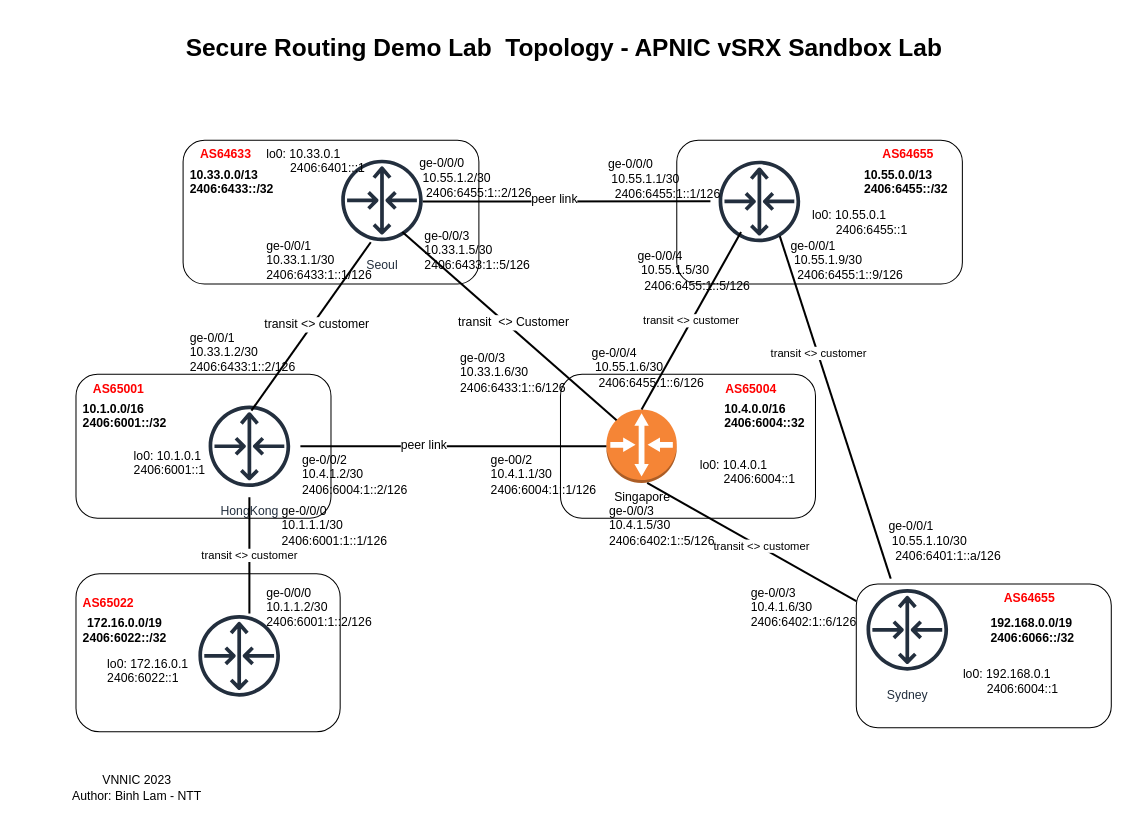
Image size: 1129x820. Some labels were removed from this diagram. Each missing label, with the centre of its shape:
"Mumbai" belongs at point (238, 655).
"Tokyo" belongs at point (758, 200).
